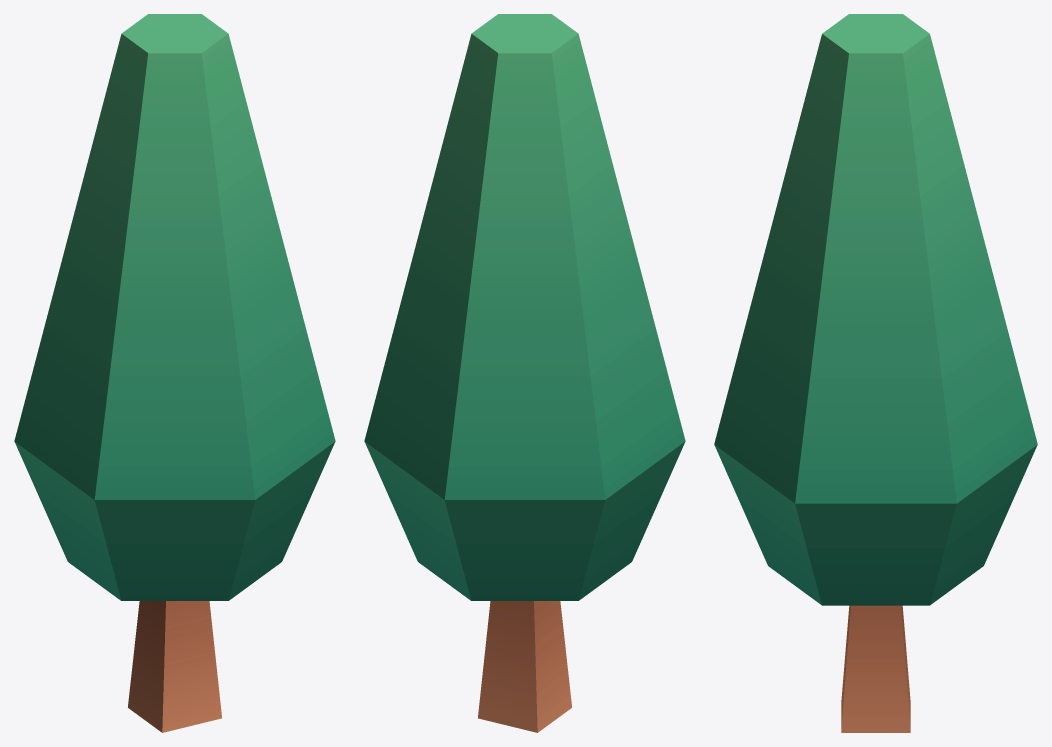
The model's file is suburban__tree-small.glb.
3 renders of one model, left to right at view 1: azimuth 30°, elevation 25°; view 2: azimuth 150°, elevation 25°; view 3: azimuth 270°, elevation 25°, orthographic.
Visible parts, largest first — view 1: tree-small; view 2: tree-small; view 3: tree-small.
Boxes of the visible parts, bbox=[...] form: tree-small: bbox=[14, 14, 335, 732]; tree-small: bbox=[364, 14, 685, 732]; tree-small: bbox=[714, 14, 1037, 732].
Bounding box in the file's own units: 0.2104 × 0.567 × 0.243.
Materials: 1 (1 with a texture image).
